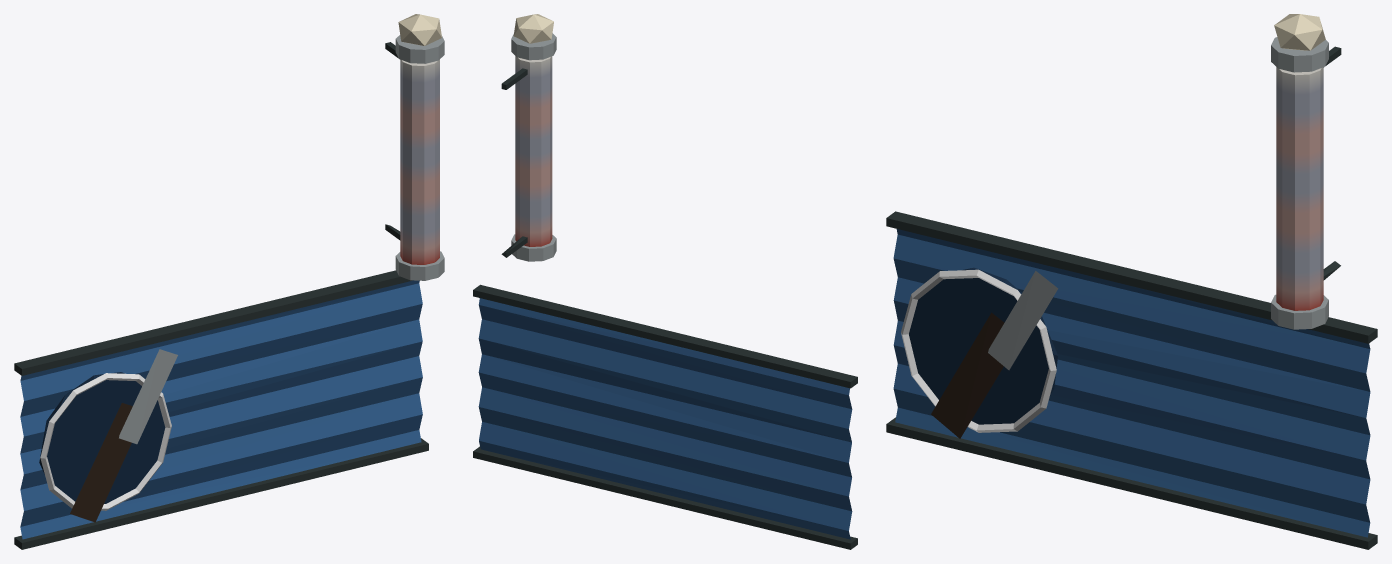
The model's file is bang_hot_toc_binh_dan_32.glb.
The picture shows the model from 3 angles, left to right: view 1: azimuth 30°, elevation 25°; view 2: azimuth 150°, elevation 25°; view 3: azimuth 330°, elevation 25°; orthographic projection. The views are drawn at different scales.
Visible parts, largest first — view 1: bang_hot_toc_binh_dan_32; view 2: bang_hot_toc_binh_dan_32; view 3: bang_hot_toc_binh_dan_32.
Boxes of the visible parts, x1=… form: bang_hot_toc_binh_dan_32: x1=14, y1=14, x2=444, y2=549; bang_hot_toc_binh_dan_32: x1=473, y1=14, x2=857, y2=549; bang_hot_toc_binh_dan_32: x1=886, y1=14, x2=1377, y2=549.
Size of the model in its own units: 3.06 by 3.32 by 0.5722.
